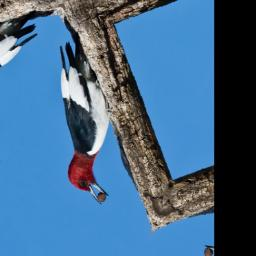Woodpecker: (13, 34, 156, 210)
